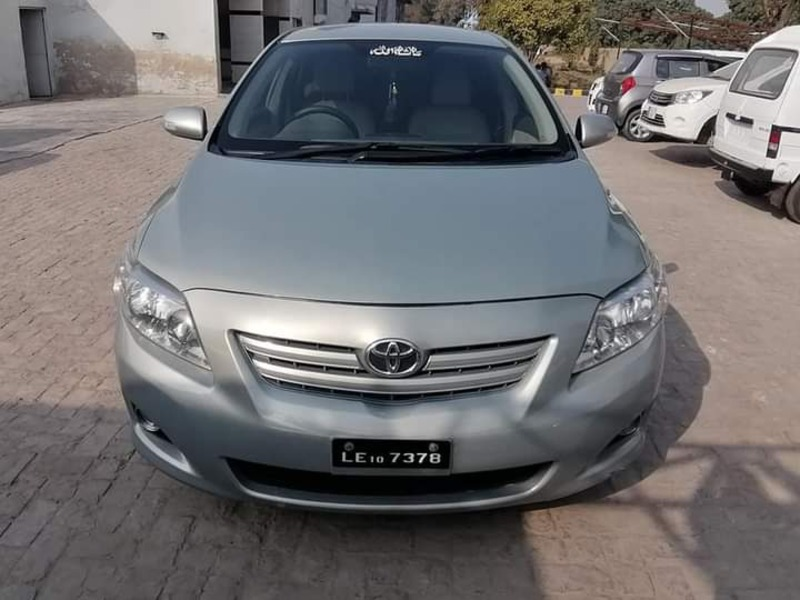License Plate: (329, 434, 459, 478)
